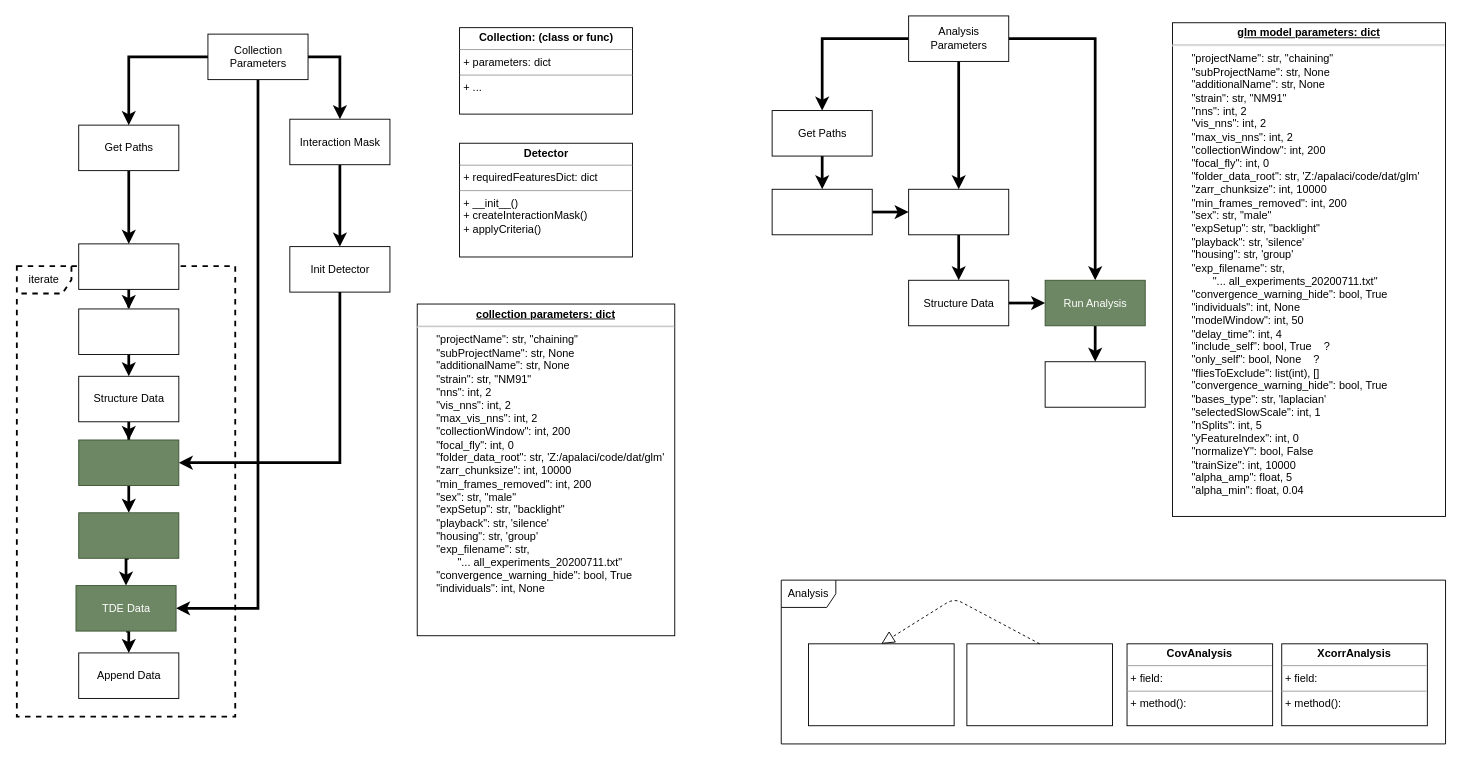
The diagram is 1461 pixels wide and 760 high, and some of its shapes have lost their labels. The shapes that lost their labels are listed below. From the top down, each one's centre as x and y in pixels, then its label:
point (821, 211): Get Collection
point (958, 211): Re-structure indices
point (128, 266): (for each) Experiment
point (128, 331): Assemble Data
point (1094, 384): Save
point (128, 462): Detection
point (128, 535): Select Data
point (881, 684): GLM + field: + method():
point (1039, 684): SensitivityAnalysis + field: + method():
